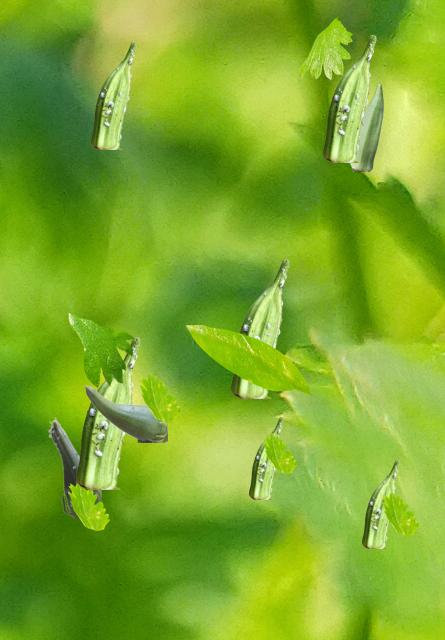okra: (76, 337, 139, 488), (231, 259, 288, 397), (323, 35, 375, 161), (48, 417, 100, 517), (91, 42, 135, 148), (84, 385, 166, 441), (362, 460, 398, 547), (350, 83, 382, 170), (249, 417, 282, 498)
